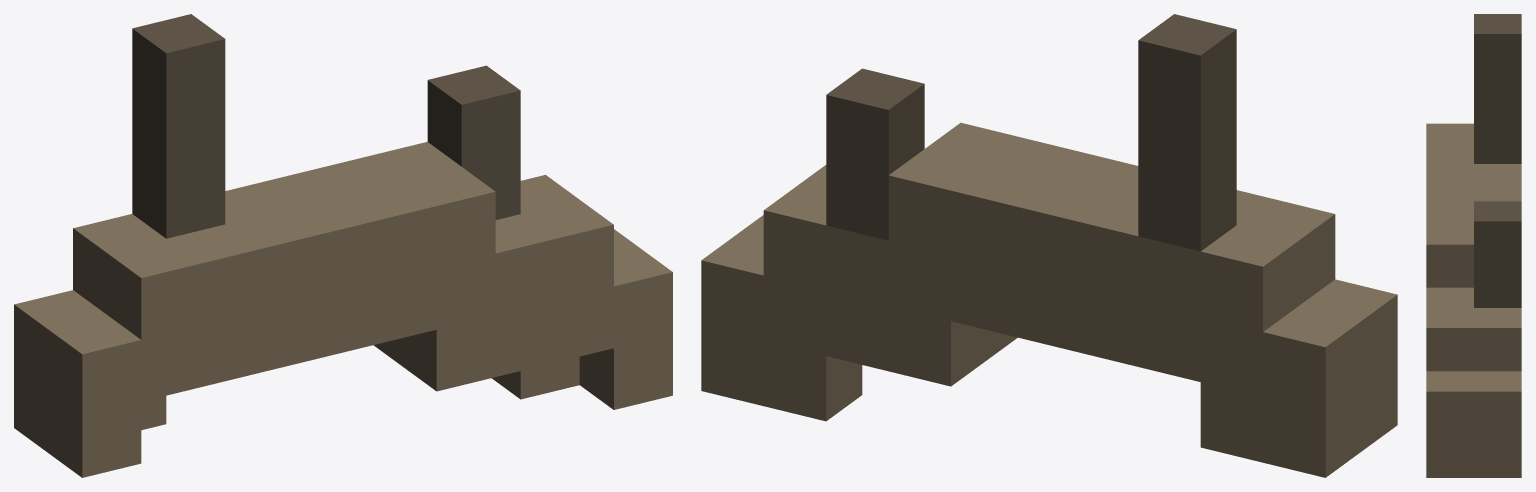
Rendered from driftwood_lod1.glb.
3 views of the same model, side by side, from view 1: azimuth 30°, elevation 25°; view 2: azimuth 150°, elevation 25°; view 3: azimuth 270°, elevation 25° (orthographic). The views are drawn at different scales.
Parts seen in each view (by area): view 1: driftwood_lod1; view 2: driftwood_lod1; view 3: driftwood_lod1.
Boxes of the visible parts, x1=… form: driftwood_lod1: x1=14, y1=14, x2=672, y2=477; driftwood_lod1: x1=701, y1=14, x2=1397, y2=477; driftwood_lod1: x1=1426, y1=14, x2=1521, y2=477.
Bounding box in the file's own units: 0.4 × 0.28 × 0.08.
